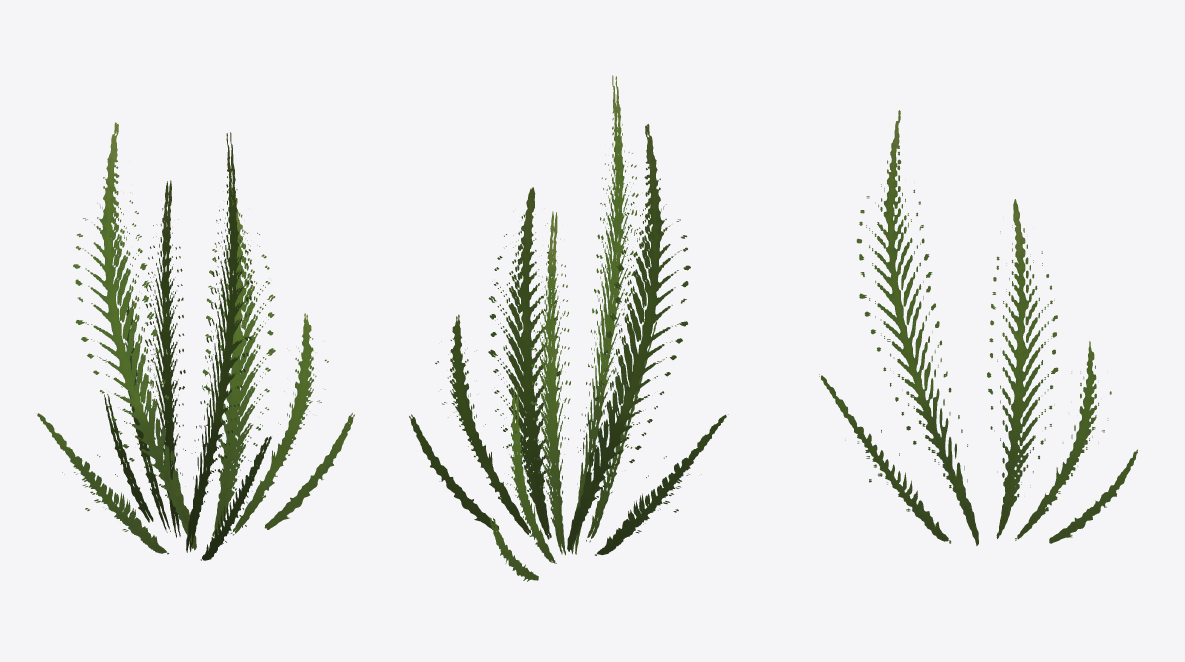
The model's file is Grass4.fbx.
The picture shows the model from 3 angles, left to right: view 1: azimuth 30°, elevation 25°; view 2: azimuth 150°, elevation 25°; view 3: azimuth 270°, elevation 25°; orthographic projection. The views are drawn at different scales.
Visible parts, largest first — view 1: n_grass_diff_0_53; view 2: n_grass_diff_0_53; view 3: n_grass_diff_0_53.
Boxes of the visible parts, left/top/right/bottom form: n_grass_diff_0_53: left=37, top=122, right=354, bottom=560; n_grass_diff_0_53: left=409, top=75, right=728, bottom=581; n_grass_diff_0_53: left=819, top=110, right=1137, bottom=545.
Bounding box in the file's own units: 100 × 132 × 100.
